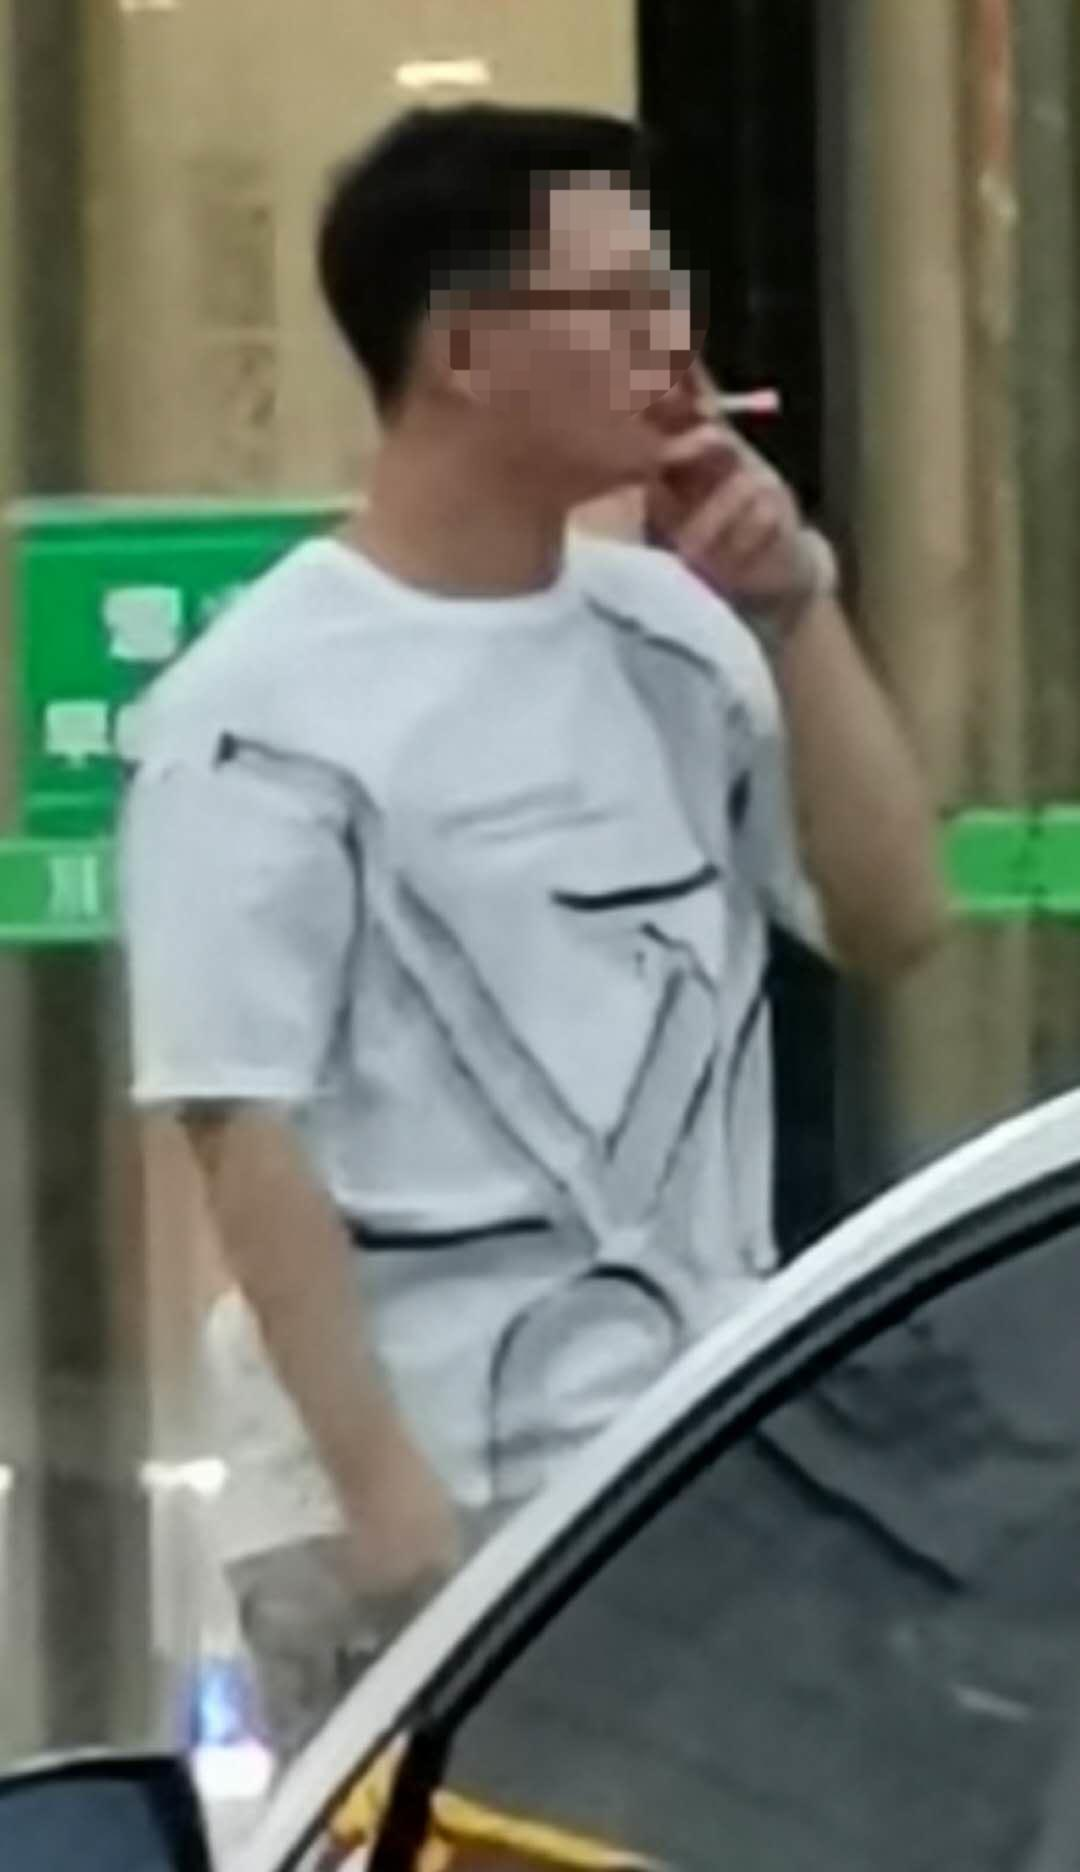smoke: (661, 393, 800, 423)
